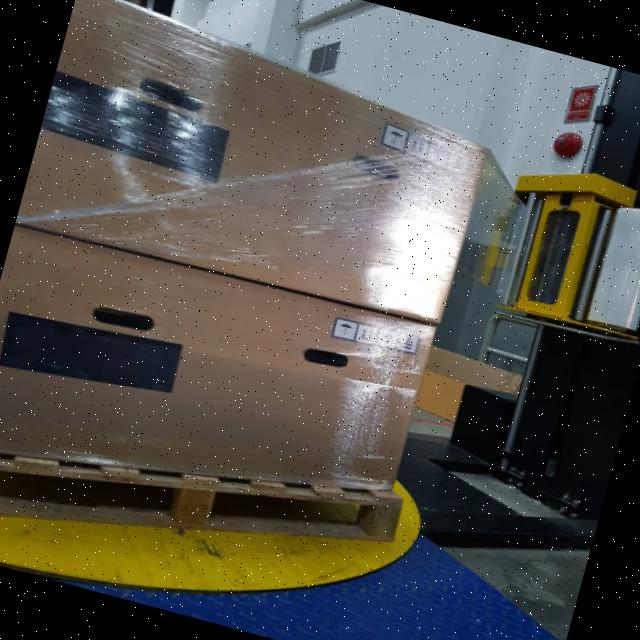Wooden-Pallets: (0, 450, 412, 543)
